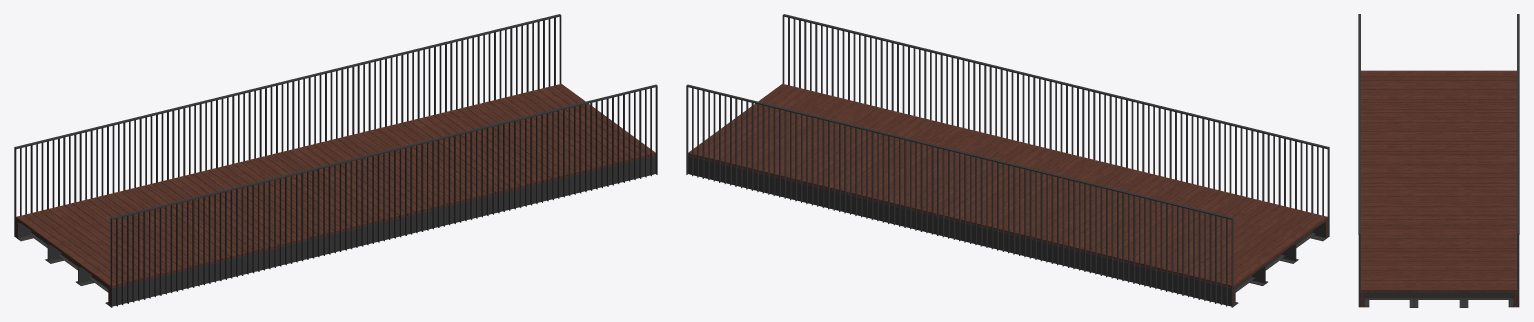
The model's file is Beam_Arel.glb.
The picture shows the model from 3 angles, left to right: view 1: azimuth 30°, elevation 25°; view 2: azimuth 150°, elevation 25°; view 3: azimuth 270°, elevation 25°; orthographic projection. The views are drawn at different scales.
Size of the model in its own units: 10 by 1.58 by 3.11.
Materials: 2 (1 with a texture image).
